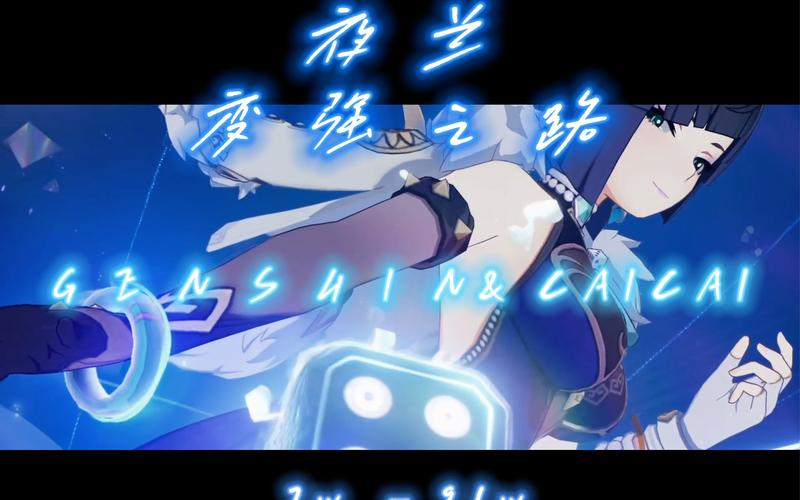夜兰: (1, 105, 796, 448)
